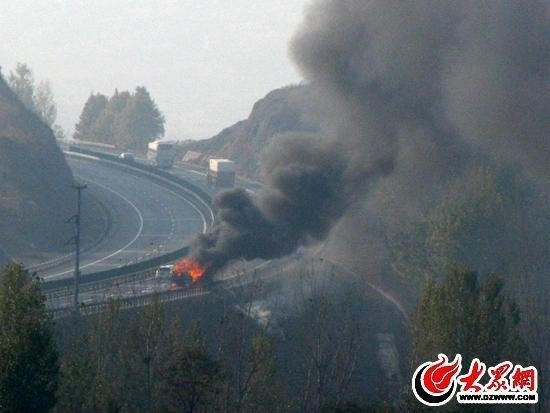fire: (172, 259, 204, 282)
